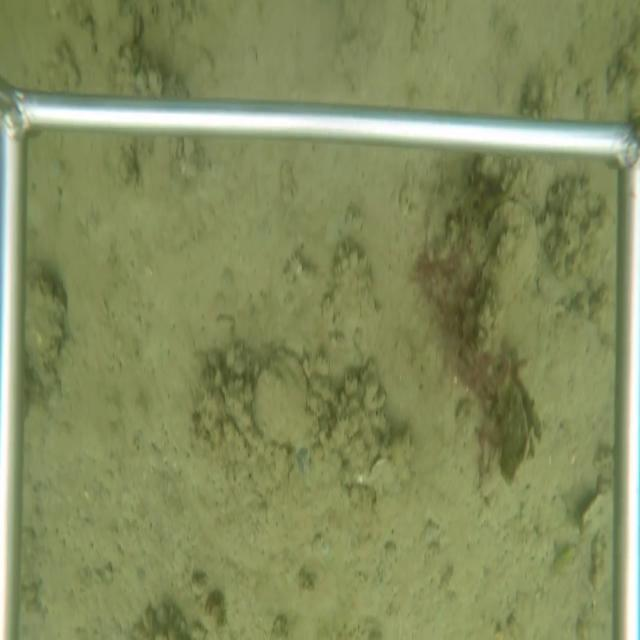Oyster-Closed: (580, 492, 614, 535)
Oyster-Indeterminate: (455, 199, 541, 357), (249, 346, 323, 453), (25, 265, 68, 402), (494, 366, 531, 489)
